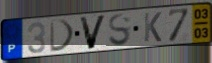3: (27, 21, 47, 55)
7: (168, 6, 191, 43)
D: (49, 18, 77, 54)
K: (143, 11, 163, 43)
S: (107, 12, 133, 48)
V: (78, 14, 108, 51)
